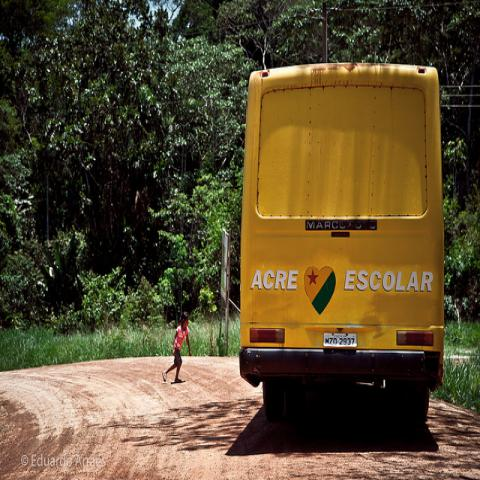bus: (241, 73, 444, 444)
